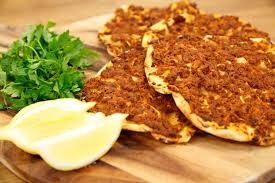lahmacun: (83, 0, 274, 145), (83, 47, 195, 143), (0, 21, 98, 111)
